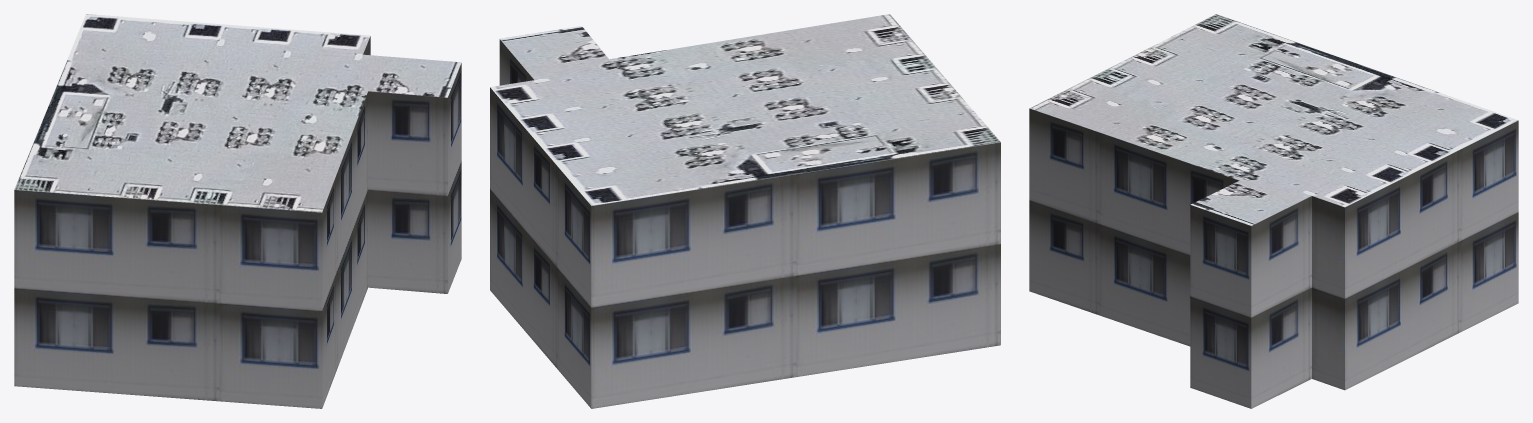
The model's file is ResTex__67.fbx.
The picture shows the model from 3 angles, left to right: view 1: azimuth 30°, elevation 25°; view 2: azimuth 150°, elevation 25°; view 3: azimuth 270°, elevation 25°; orthographic projection. The views are drawn at different scales.
Parts seen in each view (by area): view 1: CityEngineMaterial_9_m, CityEngineMaterial_4_m; view 2: CityEngineMaterial_9_m, CityEngineMaterial_4_m; view 3: CityEngineMaterial_9_m, CityEngineMaterial_4_m.
Boxes of the visible parts, bbox=[...] form: CityEngineMaterial_9_m: bbox=[14, 36, 461, 408]; CityEngineMaterial_4_m: bbox=[14, 14, 461, 212]; CityEngineMaterial_9_m: bbox=[490, 39, 1000, 408]; CityEngineMaterial_4_m: bbox=[490, 14, 1000, 205]; CityEngineMaterial_9_m: bbox=[1029, 108, 1518, 408]; CityEngineMaterial_4_m: bbox=[1030, 14, 1517, 225].
Size of the model in its own units: 14.9 by 6 by 14.53.
Materials: 2 (2 with a texture image).
